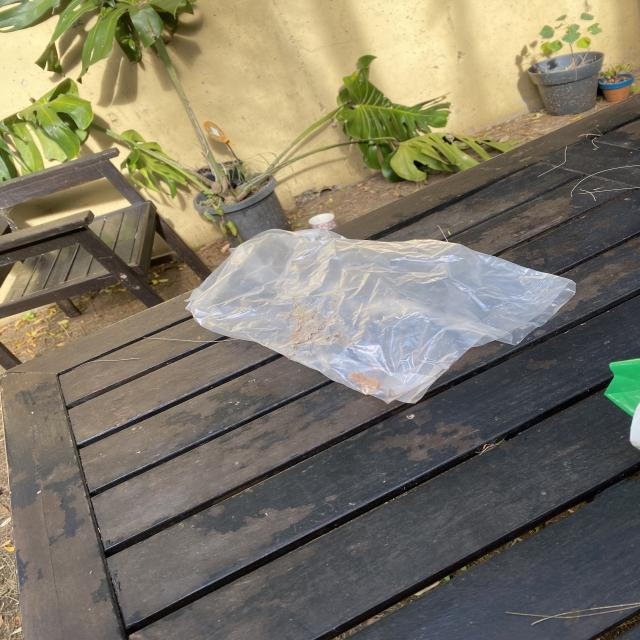bag: (186, 203, 582, 410), (603, 324, 640, 470)
container: (194, 170, 284, 243), (531, 47, 603, 116), (597, 68, 635, 111)
